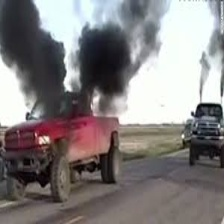smoke: (1, 1, 161, 110), (201, 2, 224, 95)
